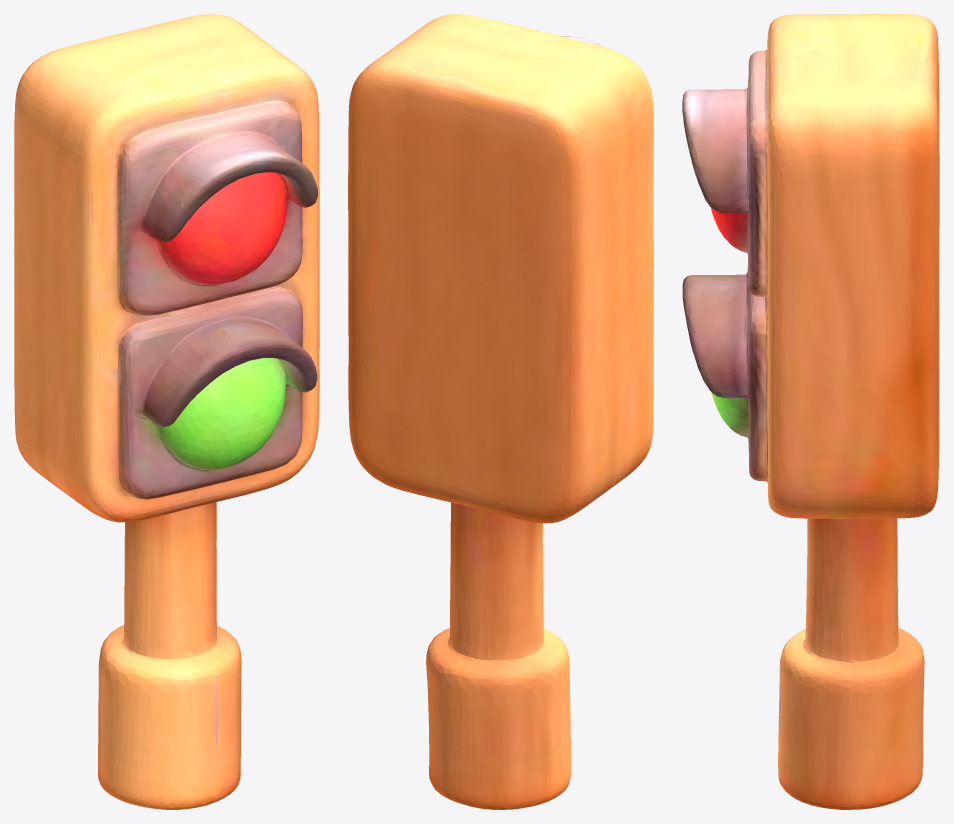
The model's file is traffic_light.glb.
3 renders of one model, left to right at view 1: azimuth 30°, elevation 25°; view 2: azimuth 150°, elevation 25°; view 3: azimuth 270°, elevation 25°, orthographic.
Visible parts, largest first — view 1: tripo_mesh_413578fd-e24b-4ddb-af94-aebac90b6e32; view 2: tripo_mesh_413578fd-e24b-4ddb-af94-aebac90b6e32; view 3: tripo_mesh_413578fd-e24b-4ddb-af94-aebac90b6e32.
Boxes of the visible parts, x1,y1,x2,y2 form: tripo_mesh_413578fd-e24b-4ddb-af94-aebac90b6e32: (14,14,319,809); tripo_mesh_413578fd-e24b-4ddb-af94-aebac90b6e32: (348,14,653,809); tripo_mesh_413578fd-e24b-4ddb-af94-aebac90b6e32: (682,14,939,809).
Size of the model in its own units: 0.3425 by 1 by 0.319.
Materials: 1 (1 with a texture image).
